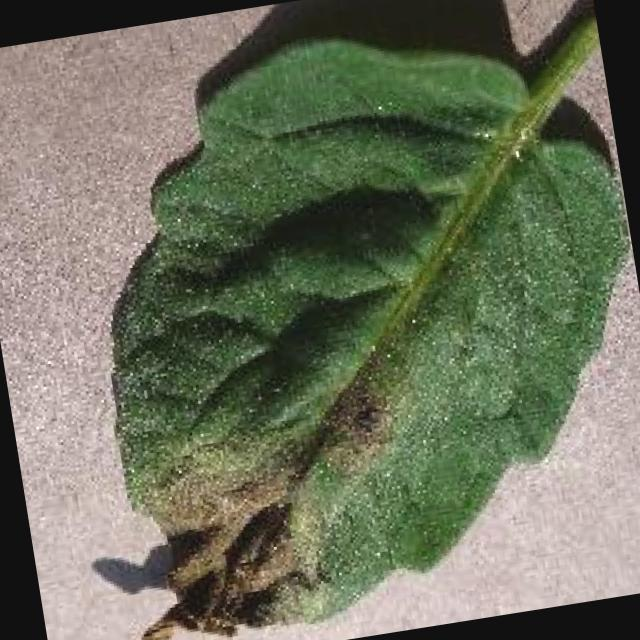leaf blight: (107, 3, 631, 640)
